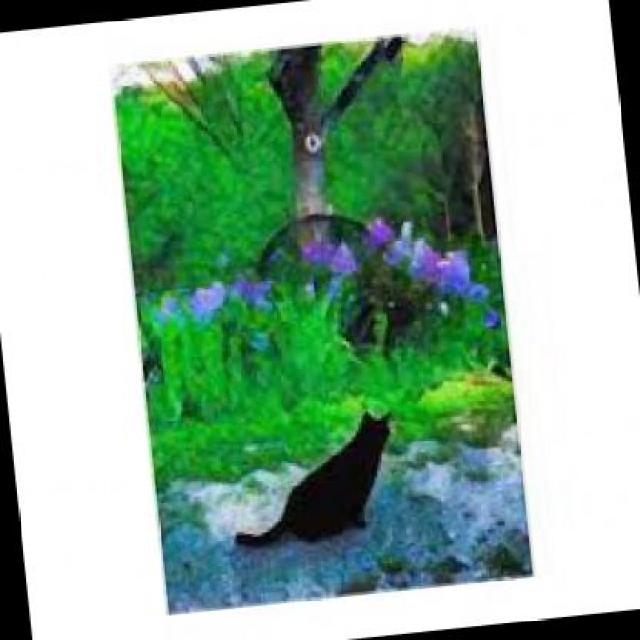animals: (215, 398, 416, 562)
